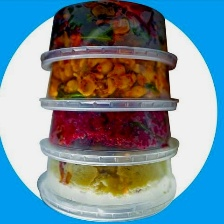plastic_box: (34, 0, 182, 78), (31, 152, 181, 224), (34, 50, 182, 118), (34, 105, 184, 171)
